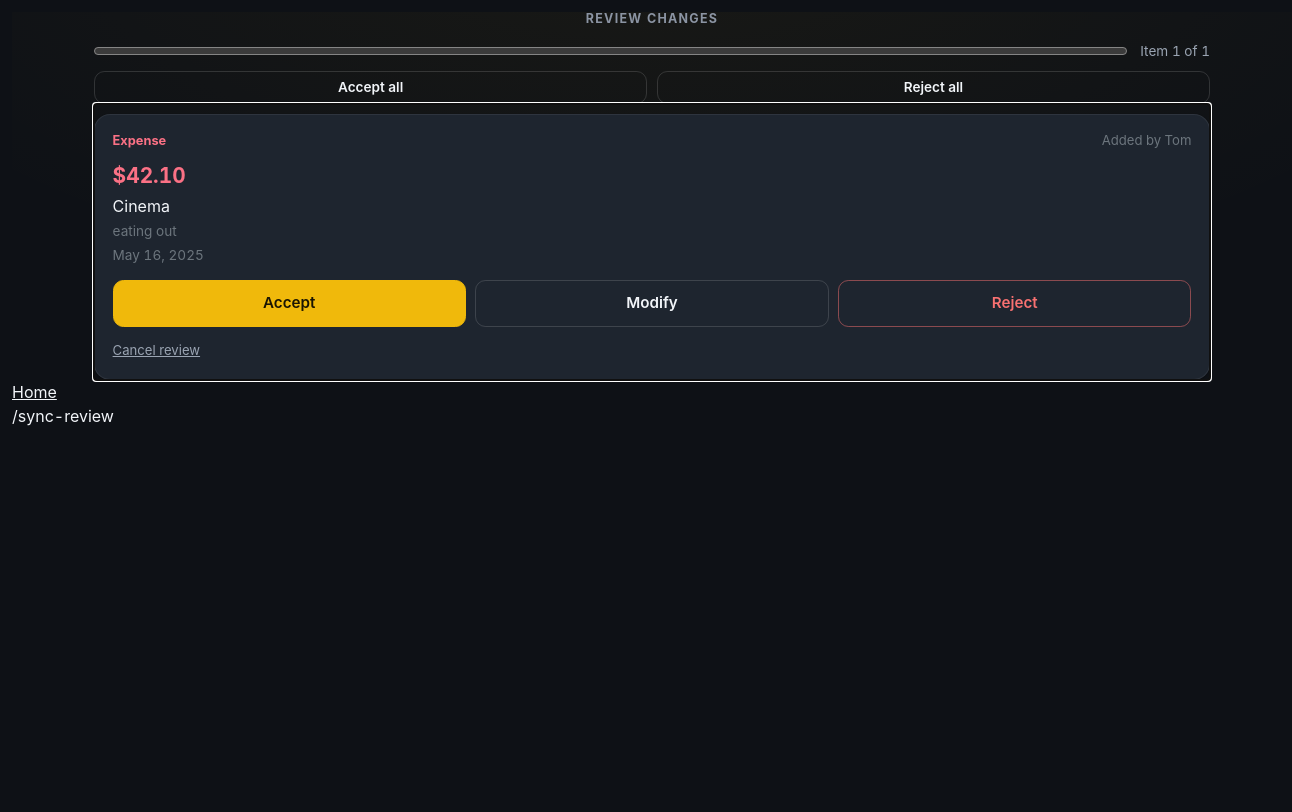
Test: Modify (DESIGN §4.3.2, EC-5) › refuses to save an empty date
This screenshot has width=1292, height=812.
Click the button with aria-label "Modify $42.10 expense added by tom". click: (652, 303)
box: [475,280,829,327]
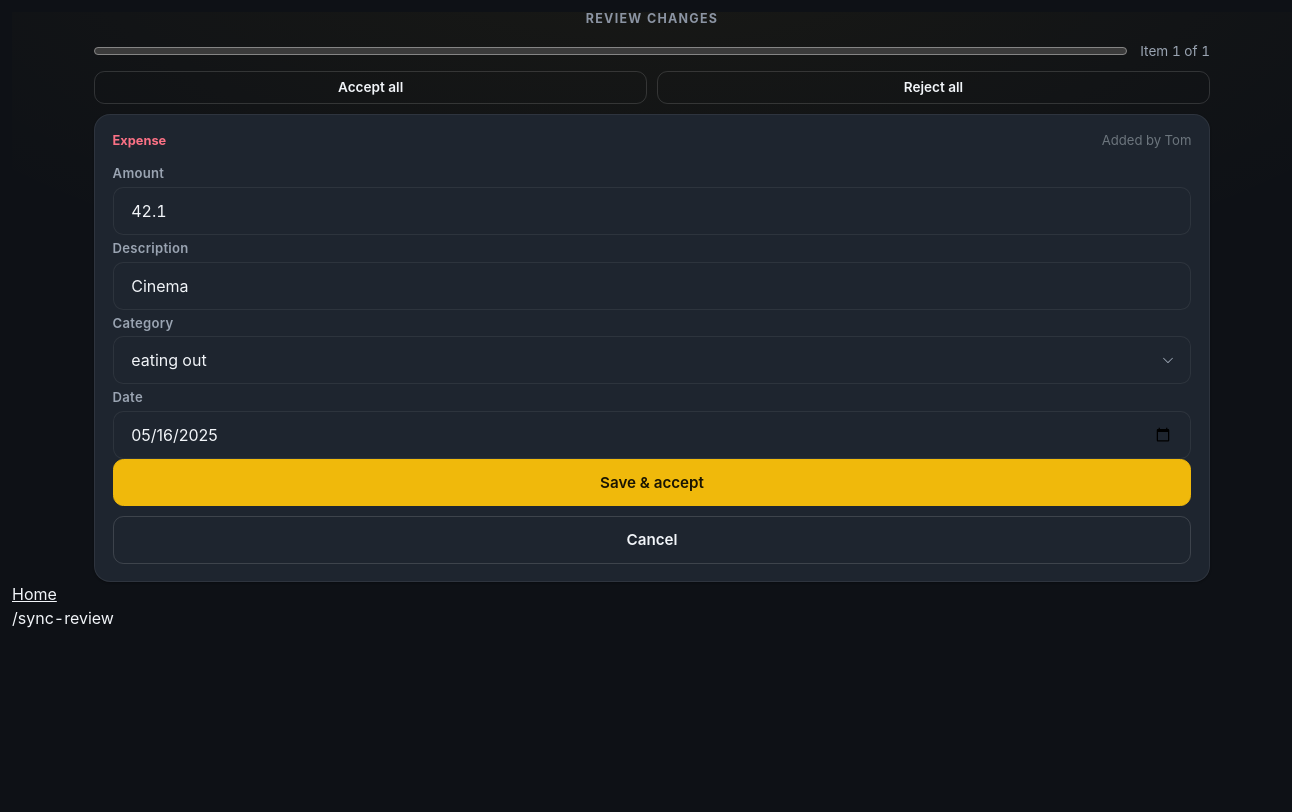
Clear the date field labelled "Date". click: (652, 435)
box: [113,411,1191,459]
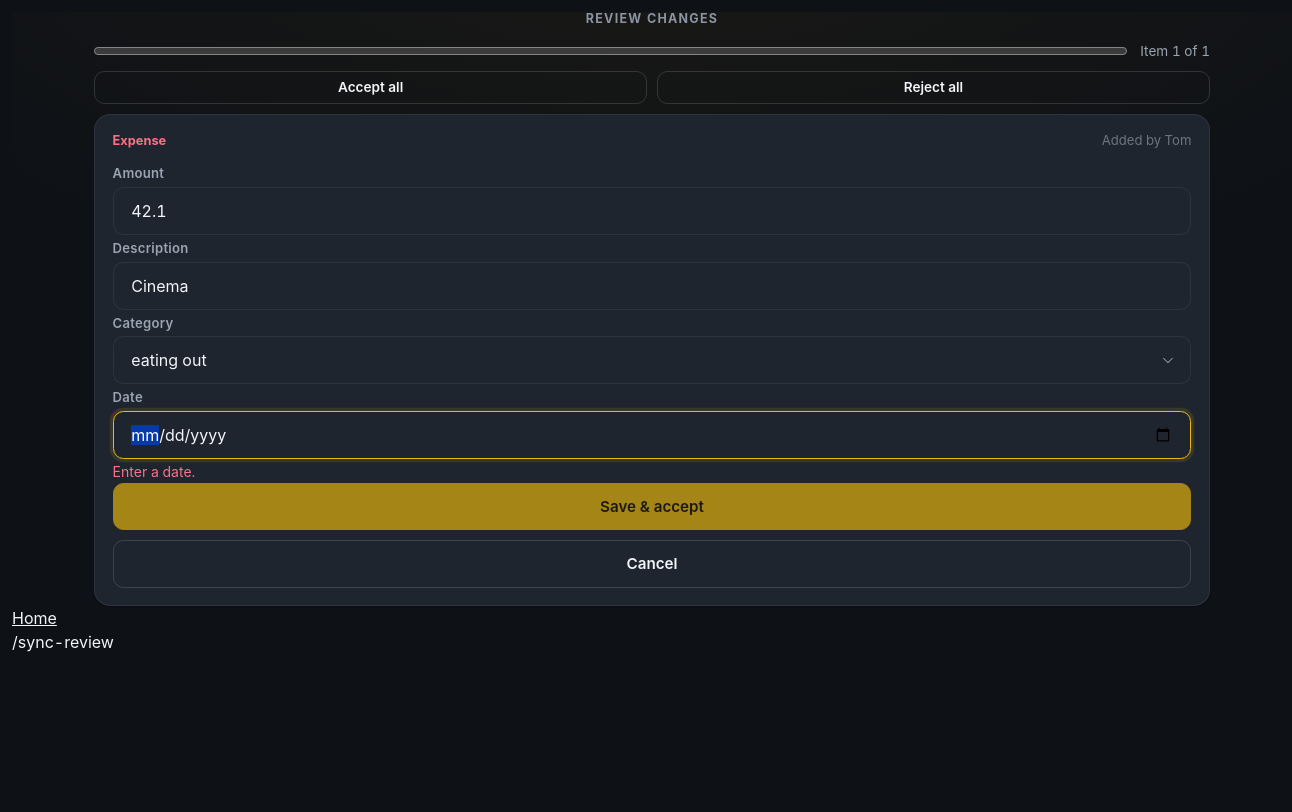
Check: the text "Enter a date." is shown, box [113,463,195,480]
Check: the button "Save & accept" is disabled, box [113,483,1191,530]
